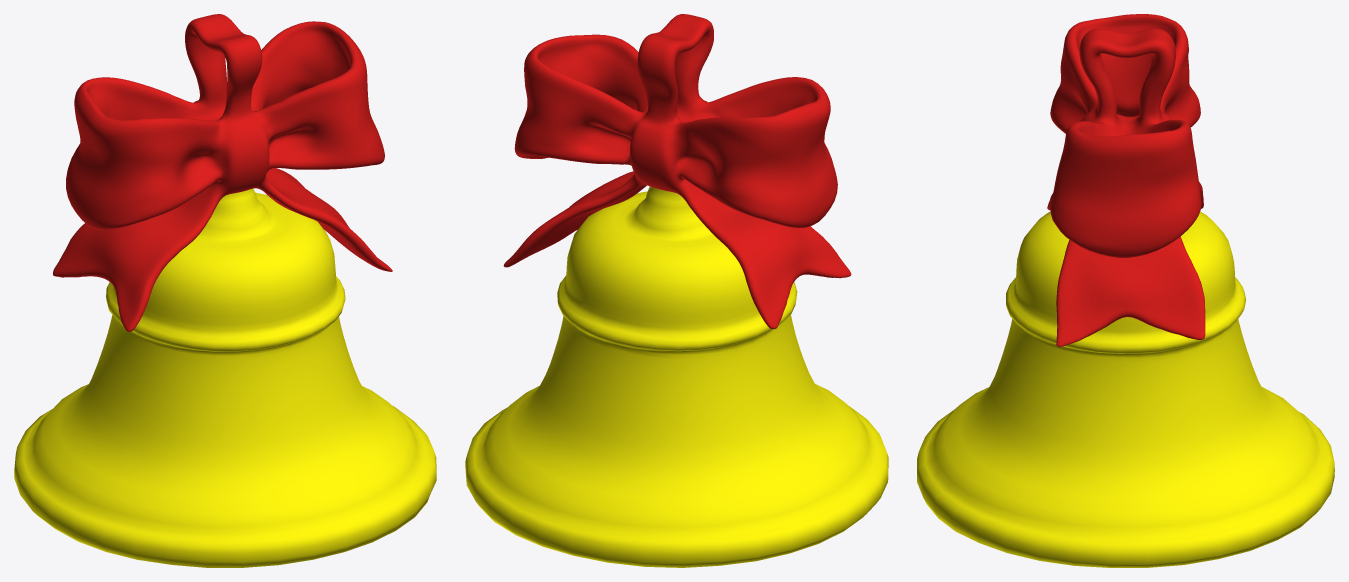
The picture shows the model from 3 angles, left to right: view 1: azimuth 30°, elevation 25°; view 2: azimuth 150°, elevation 25°; view 3: azimuth 270°, elevation 25°; orthographic projection.
Parts seen in each view (by area): view 1: model_LOD0.001, Retopo_bow retop; view 2: model_LOD0.001, Retopo_bow retop; view 3: model_LOD0.001, Retopo_bow retop.
Boxes of the visible parts, x1=… form: model_LOD0.001: x1=14, y1=188, x2=436, y2=567; Retopo_bow retop: x1=53, y1=14, x2=392, y2=331; model_LOD0.001: x1=465, y1=186, x2=888, y2=567; Retopo_bow retop: x1=503, y1=14, x2=851, y2=328; model_LOD0.001: x1=917, y1=211, x2=1334, y2=567; Retopo_bow retop: x1=1047, y1=14, x2=1205, y2=346.
Size of the model in its own units: 1.28 by 1.69 by 1.28.
